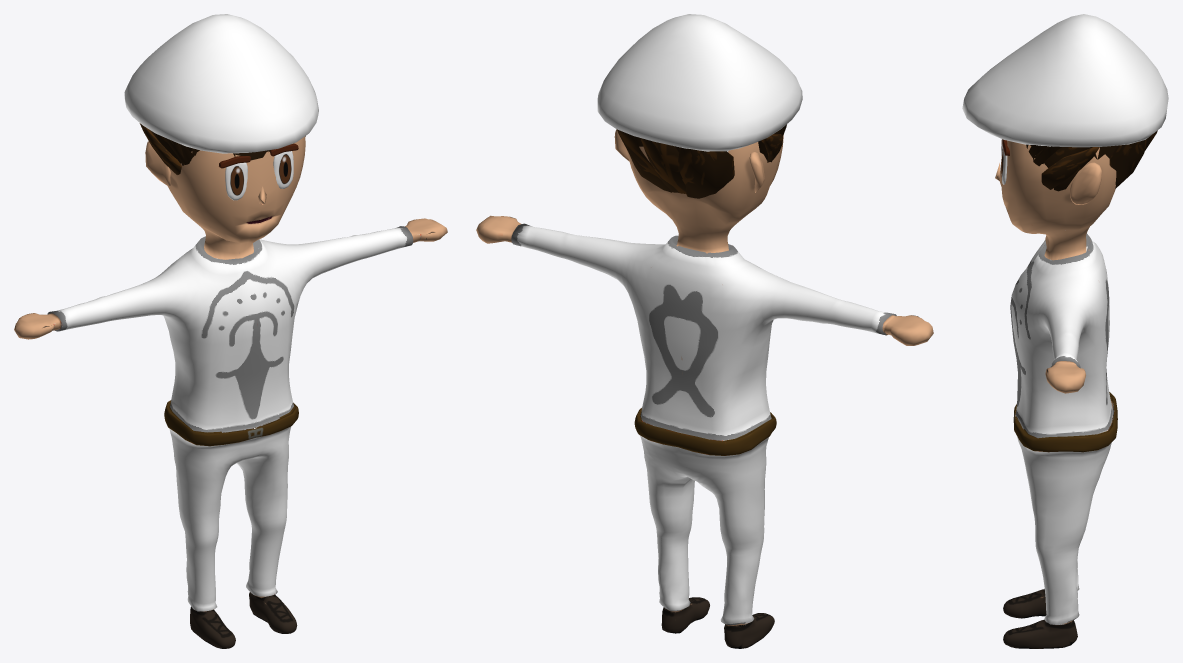
Rendered from CharacterModel.fbx.
3 renders of one model, left to right at view 1: azimuth 30°, elevation 25°; view 2: azimuth 150°, elevation 25°; view 3: azimuth 270°, elevation 25°, orthographic. The views are drawn at different scales.
Parts seen in each view (by area): view 1: Boneco.001, ChapeuBoneco.001, Boneco.002, Cabelo.001, Boneco.003; view 2: Boneco.001, ChapeuBoneco.001, Cabelo.001; view 3: Boneco.001, ChapeuBoneco.001, Cabelo.001, Boneco.003.
Part boxes in pixels (box(x1,y1,x2,y2)): Boneco.001: box(14, 136, 447, 648); ChapeuBoneco.001: box(124, 14, 318, 153); Boneco.002: box(225, 151, 293, 200); Cabelo.001: box(139, 123, 305, 174); Boneco.003: box(145, 141, 170, 186); Boneco.001: box(476, 134, 933, 648); ChapeuBoneco.001: box(597, 14, 802, 151); Cabelo.001: box(617, 124, 786, 198); Boneco.001: box(995, 140, 1117, 648); ChapeuBoneco.001: box(962, 14, 1168, 147); Cabelo.001: box(1026, 130, 1157, 191); Boneco.003: box(1070, 162, 1101, 204).
Size of the model in its own units: 116 by 155 by 47.62.
7 materials, 6 textured.
